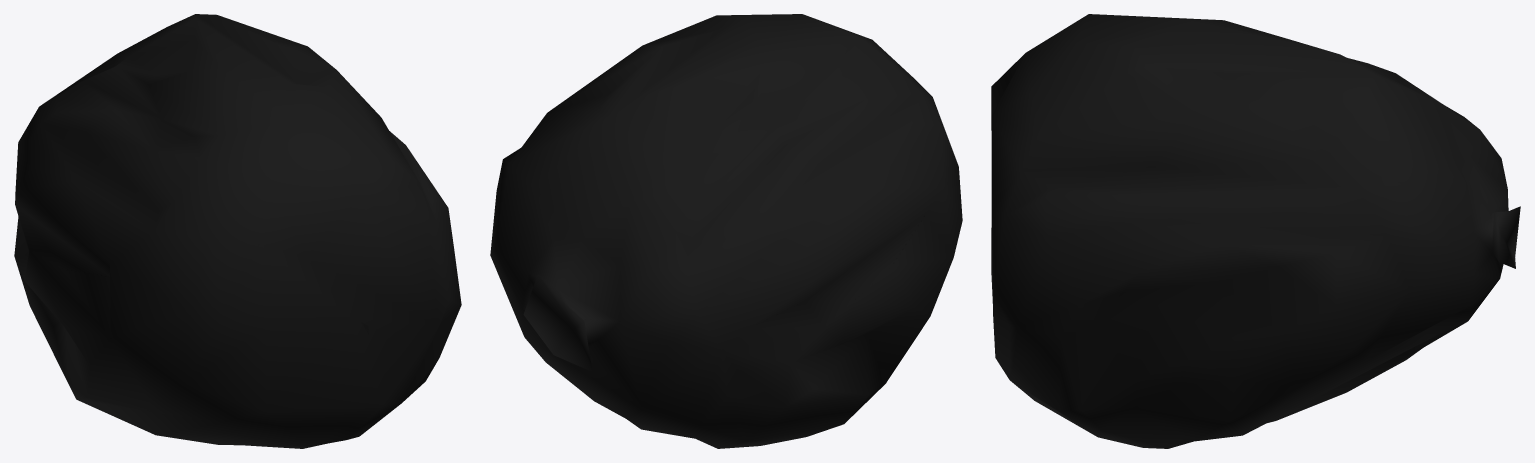
Rendered from TrashBag01.fbx.
3 renders of one model, left to right at view 1: azimuth 30°, elevation 25°; view 2: azimuth 150°, elevation 25°; view 3: azimuth 270°, elevation 25°, orthographic. The views are drawn at different scales.
Parts seen in each view (by area): view 1: Sphere.003; view 2: Sphere.003; view 3: Sphere.003.
Part boxes in pixels (left/top/right/bottom): Sphere.003: left=14, top=14, right=461, bottom=448; Sphere.003: left=490, top=14, right=962, bottom=448; Sphere.003: left=991, top=14, right=1520, bottom=448.
Size of the model in its own units: 1.05 by 1.09 by 1.31.
Materials: 1 (1 with a texture image).
